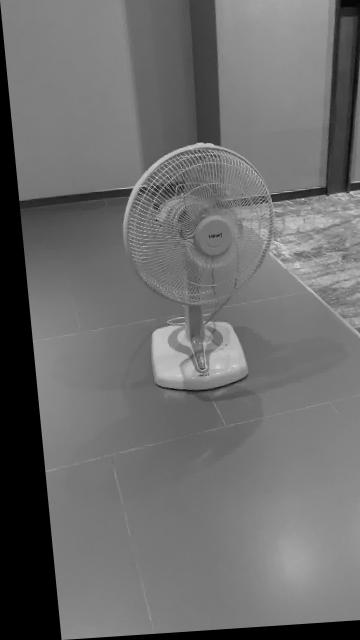Fan: (118, 146, 269, 394)
